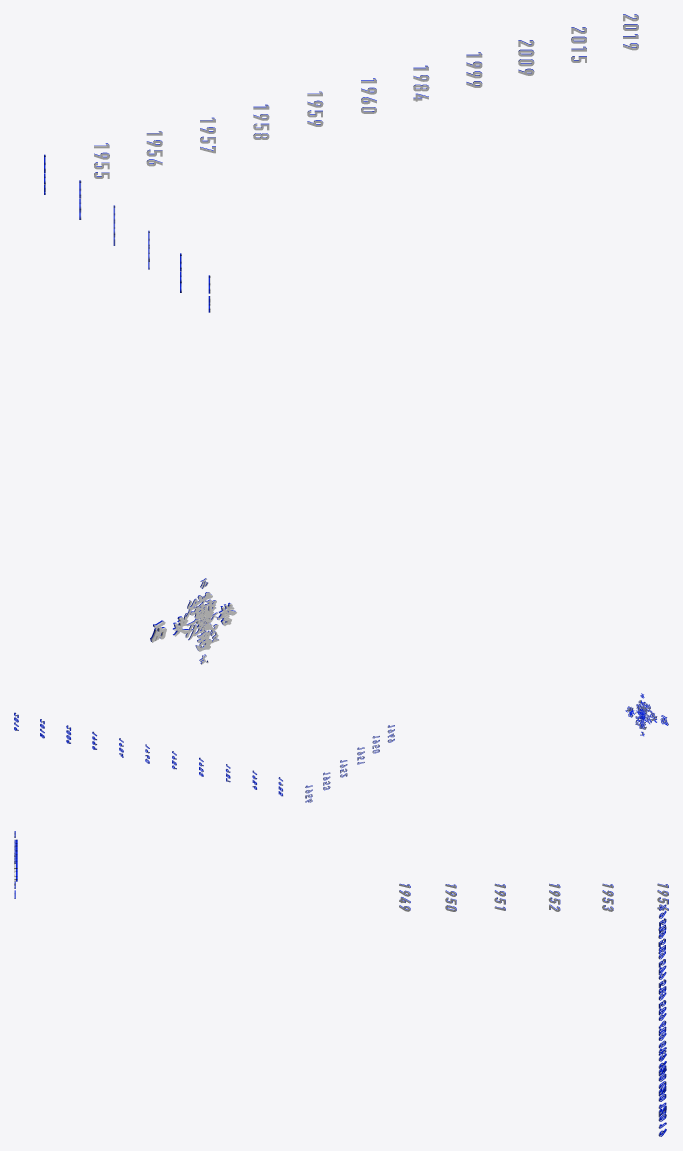
Rendered from 支队标题.fbx.
The picture shows the model from 3 angles, top to bottom: view 1: azimuth 30°, elevation 25°; view 2: azimuth 150°, elevation 25°; view 3: azimuth 270°, elevation 25°; orthographic projection. The views are drawn at different scales.
Visible parts, largest first — view 1: 年份; view 2: 年份, 历史荣誉, 发展历程.001; view 3: 年份.
Part boxes in pixels (<box>): 年份: <box>44,14,638,312</box>; 年份: <box>14,712,394,802</box>; 历史荣誉: <box>625,706,668,725</box>; 发展历程.001: <box>635,702,652,726</box>; 年份: <box>399,883,668,1136</box>.
Bounding box in the file's own units: 4336 × 655 × 3489.
